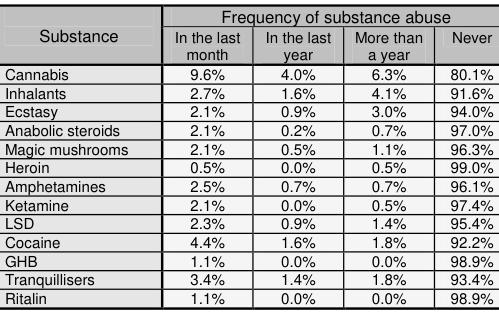table: (3, 3, 492, 307)
table column: (3, 3, 150, 307), (150, 3, 251, 307), (342, 3, 435, 307), (251, 3, 342, 307), (435, 3, 492, 307)
table column header: (3, 3, 492, 63)
table row: (3, 26, 492, 63), (3, 3, 492, 26), (3, 287, 492, 307), (3, 63, 492, 82), (3, 82, 492, 101), (3, 119, 492, 138), (3, 138, 492, 157), (3, 175, 492, 194), (3, 194, 492, 213), (3, 231, 492, 250), (3, 250, 492, 269), (3, 101, 492, 119), (3, 157, 492, 175), (3, 213, 492, 231), (3, 269, 492, 287)
table spanning cell: (3, 3, 150, 63), (150, 3, 492, 26)
